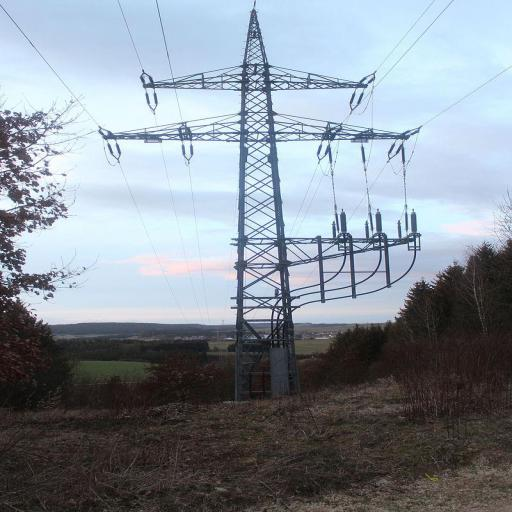ss_2: (98, 6, 422, 397)
